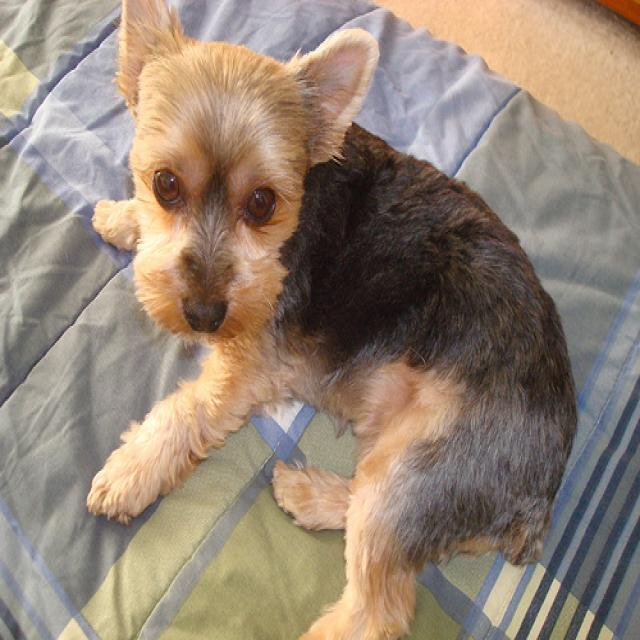dog-yorkshire_terrier: (77, 2, 585, 637)
